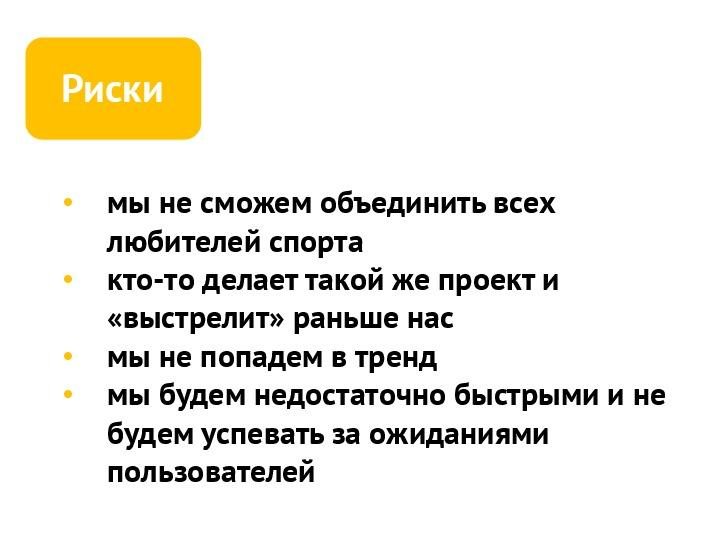paragraph: (53, 175, 686, 501)
title: (50, 63, 180, 120)
